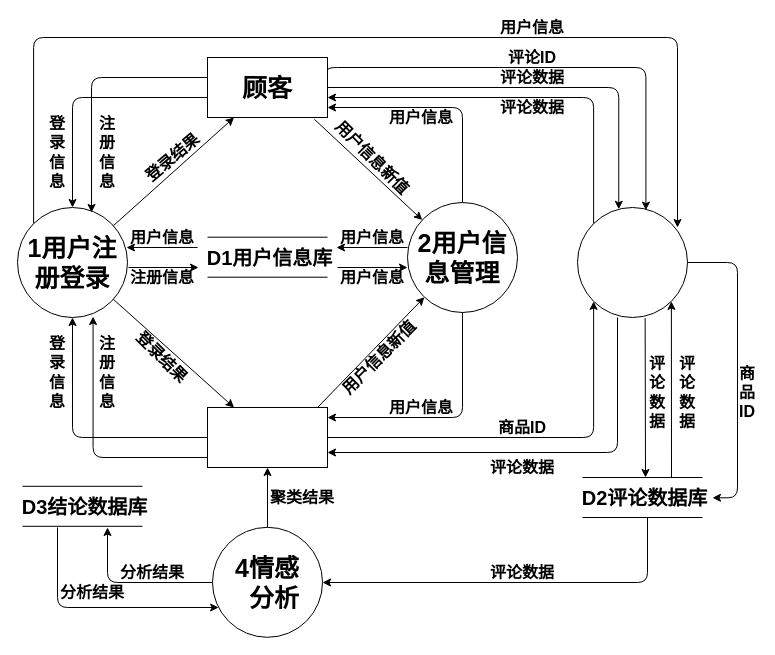
Some shapes in this 775 by 655 pixel diagram are drawn without their labels. Here are the shapes that lost their labels. From the top down, the centre of each, then its label:
(x=632, y=262): 3评论数据管理
(x=267, y=437): 管理人员
